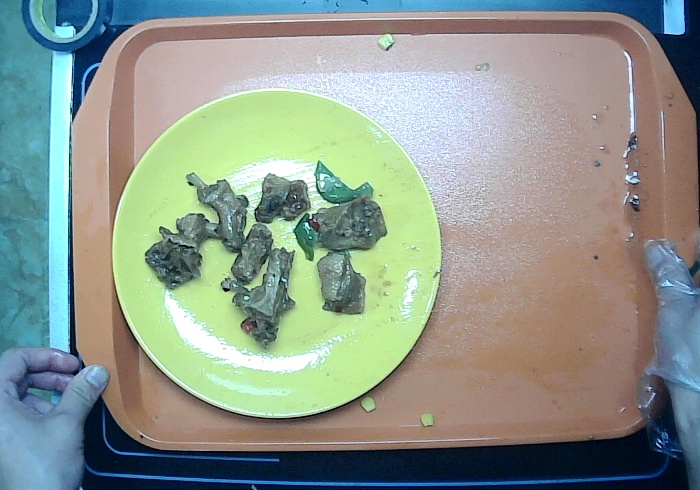HZYJPL-Huang_Se_Yuan_Pan: (90, 75, 458, 434)
